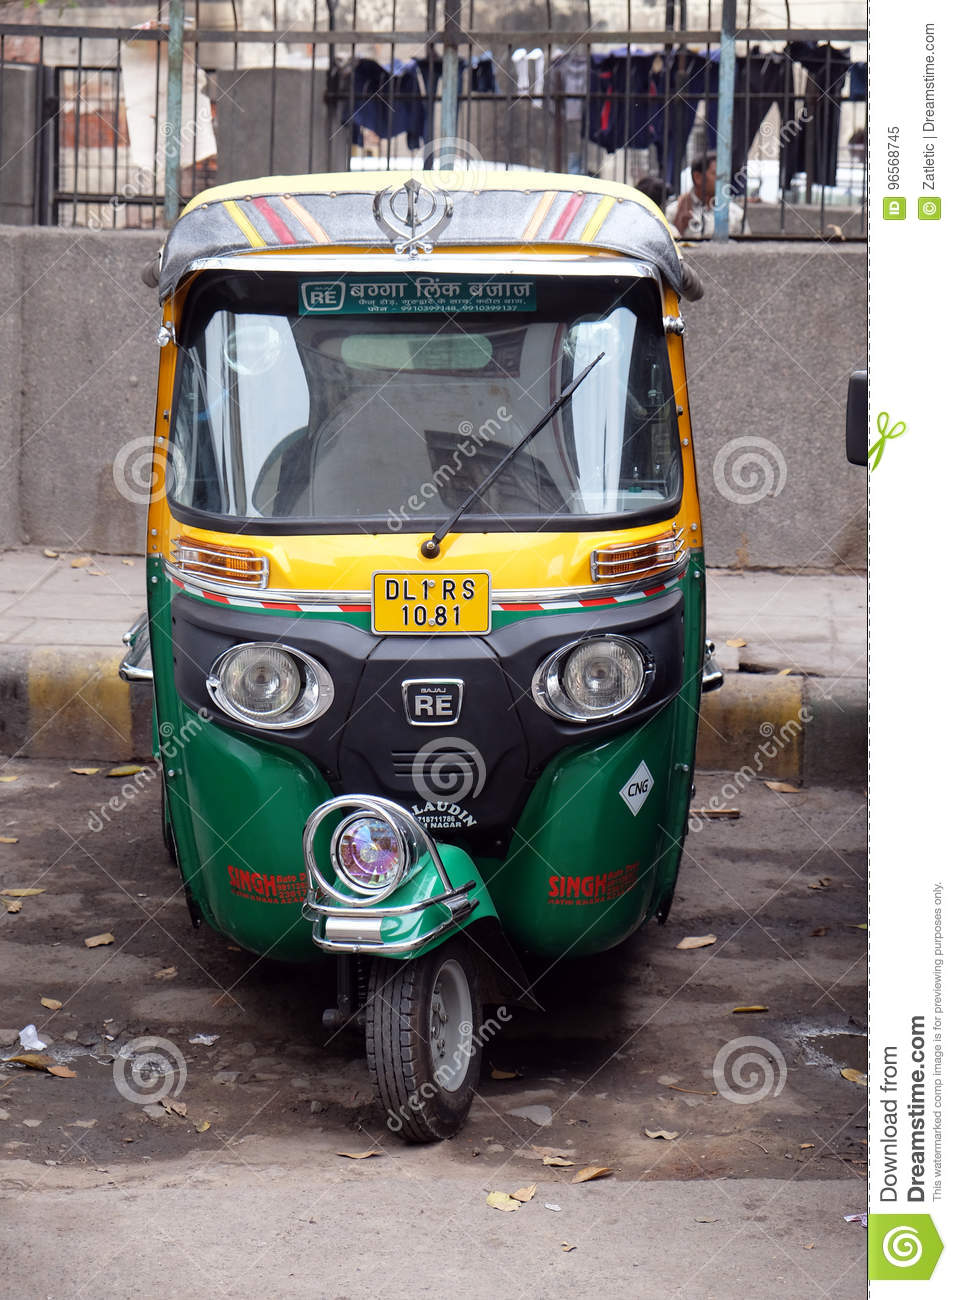doublelinenumberplate: (372, 568, 496, 640)
